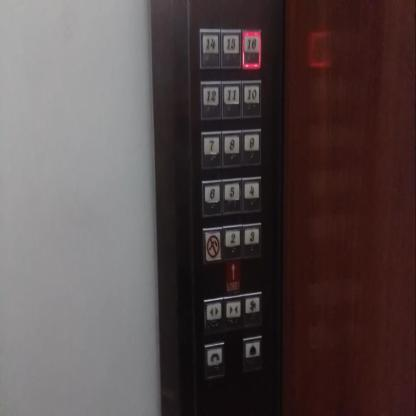10: (242, 78, 260, 119)
11: (222, 79, 241, 120)
12: (200, 80, 221, 121)
14: (200, 27, 220, 68)
15: (222, 29, 240, 69)
16: (241, 29, 261, 69)
2: (223, 223, 242, 260)
3: (242, 221, 263, 256)
4: (242, 174, 262, 212)
5: (221, 175, 241, 214)
6: (201, 178, 222, 218)
7: (201, 131, 221, 169)
8: (222, 130, 240, 166)
9: (242, 128, 260, 164)
alarm: (242, 336, 262, 362)
call: (204, 344, 224, 372)
close: (224, 294, 242, 322)
fan: (242, 290, 262, 320)
open: (202, 295, 224, 329)
unknown: (201, 226, 222, 265)
